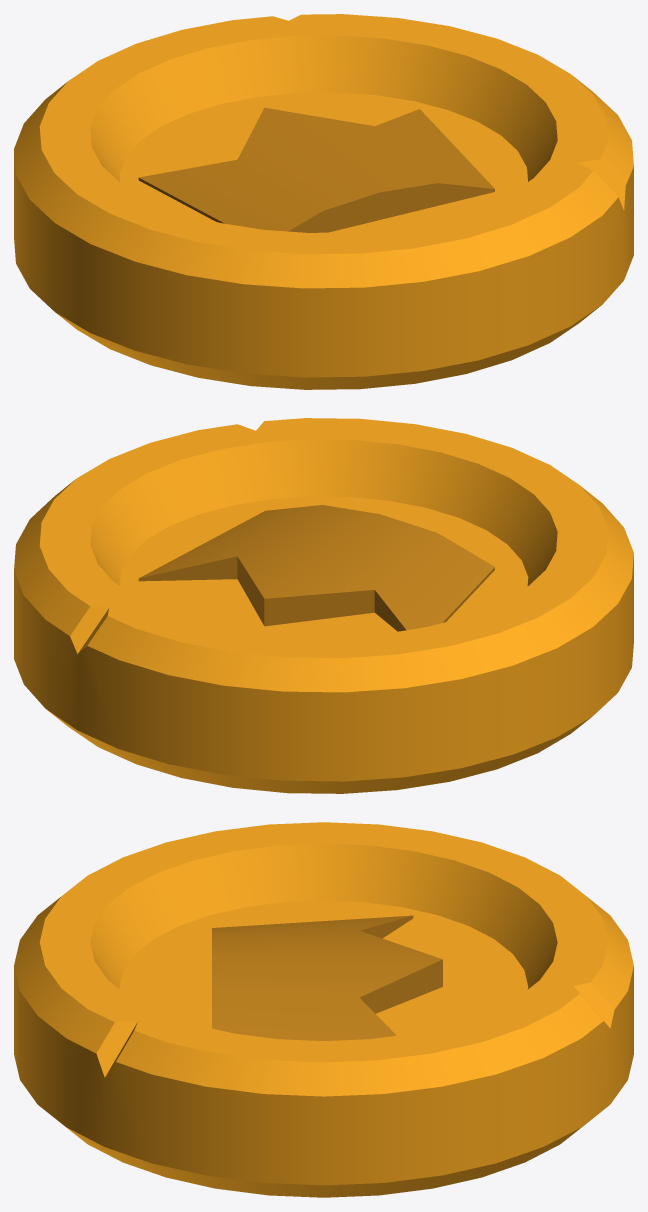
The model's file is moneta.fbx.
The picture shows the model from 3 angles, top to bottom: view 1: azimuth 30°, elevation 25°; view 2: azimuth 150°, elevation 25°; view 3: azimuth 270°, elevation 25°; orthographic projection.
Visible parts, largest first — view 1: Cylinder, Plane; view 2: Cylinder, Plane; view 3: Cylinder, Plane.
Part boxes in pixels (x1,y1,x2,y2): Cylinder: (14,14,633,389); Plane: (138,107,494,232); Cylinder: (14,418,633,793); Plane: (138,505,494,631); Cylinder: (14,822,633,1197); Plane: (212,915,442,1040).
Size of what is drawn, in the model's own units: 311 by 74.99 by 311.
